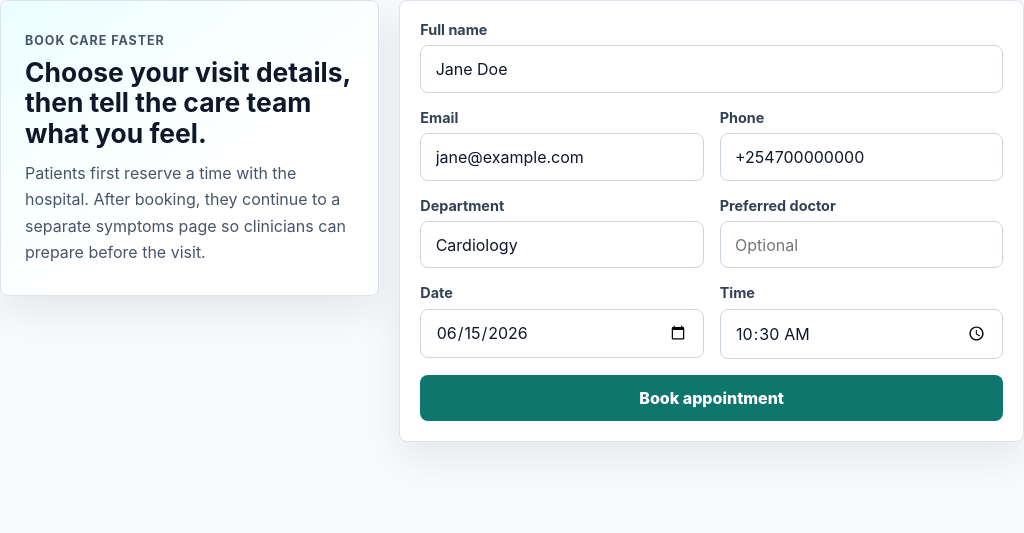
AppointmentBooking › requires consultation payment before booking
Click the button "Book appointment" at [712, 398], box [420,375,1003,421]
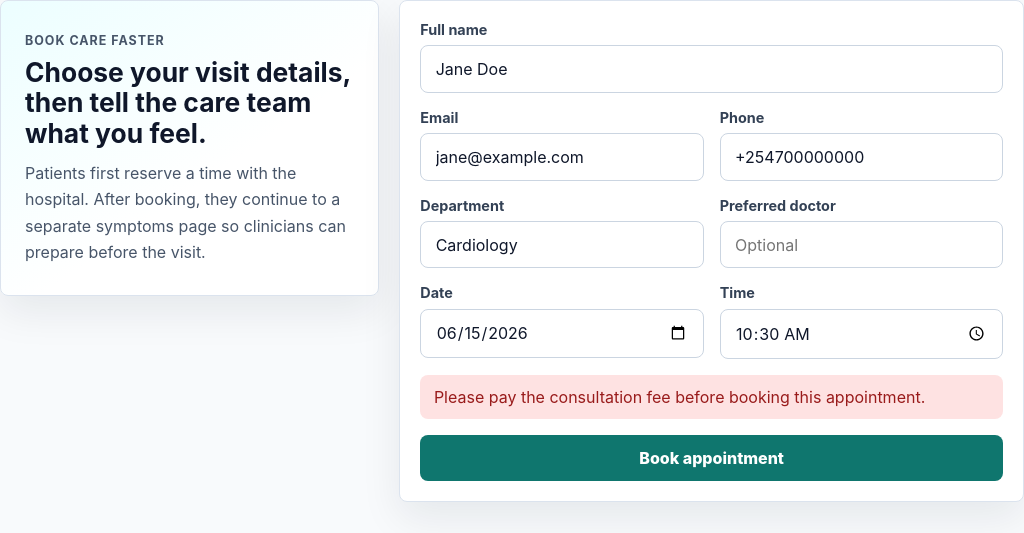
expect the text "Please pay the consultation fee before booking" is shown: met, box [434,387,925,407]
